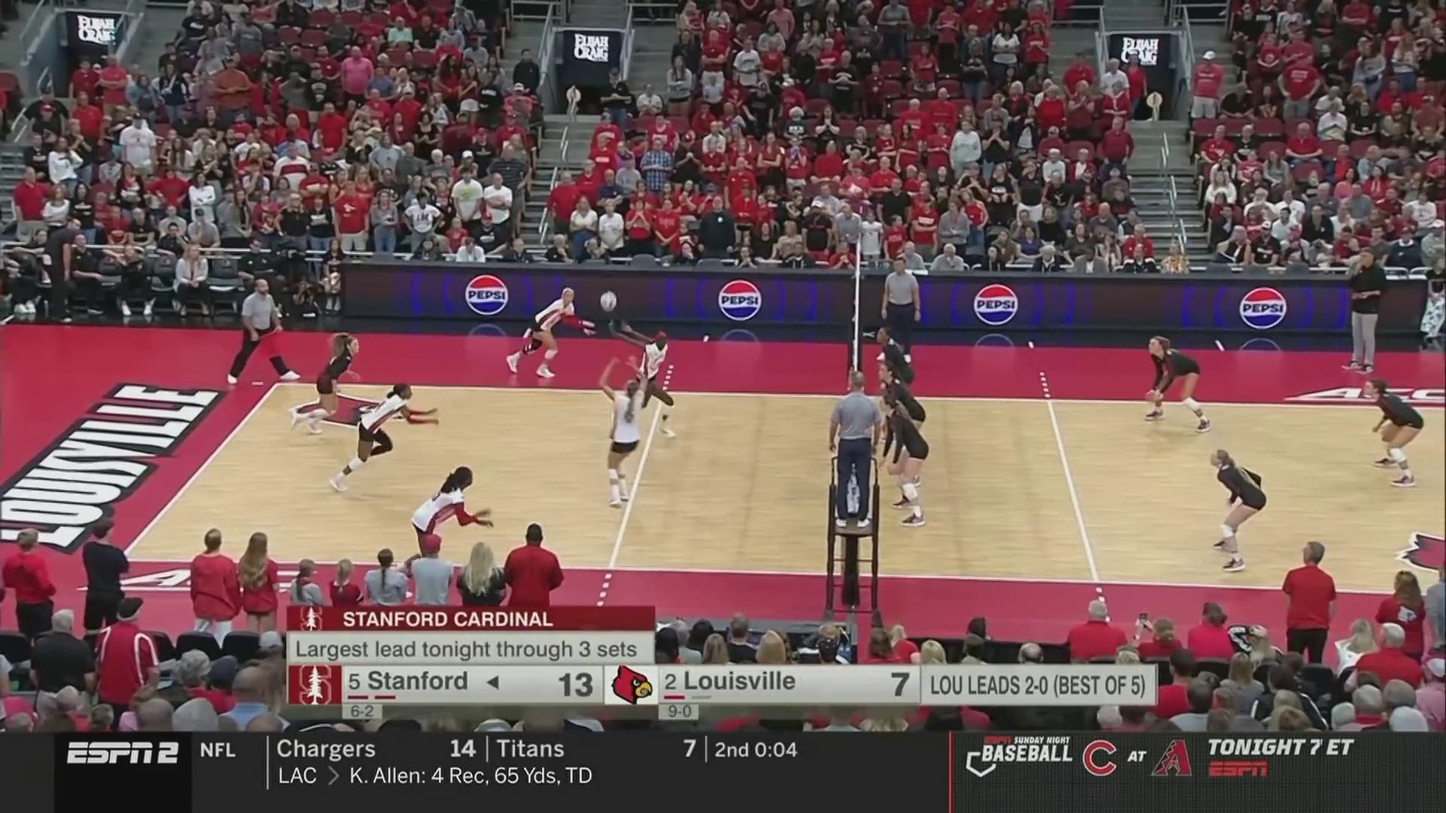player: (326, 385, 437, 492), (411, 467, 490, 577), (506, 288, 593, 378), (598, 362, 651, 506), (610, 322, 674, 437), (1205, 448, 1264, 571), (290, 335, 360, 438), (1361, 379, 1425, 486), (880, 394, 929, 525), (1142, 337, 1207, 432), (877, 364, 924, 485), (875, 327, 917, 446)
refree: (825, 373, 881, 523), (227, 279, 297, 382), (876, 259, 923, 364)
